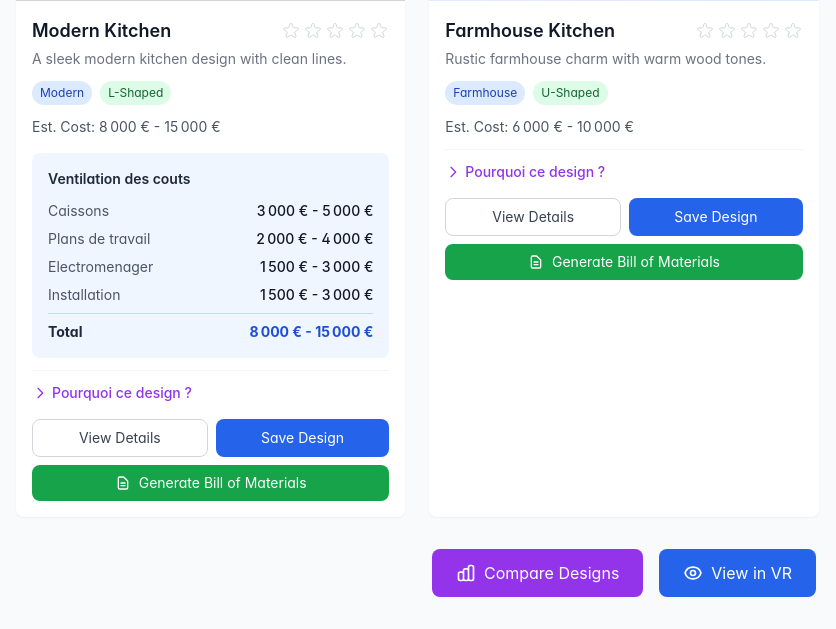
Test: GeneratedDesigns › Design Explanation › should expand explanation when button is clicked
(page scrolled)
What coordinates should you click on to do the following:
click the button "Pourquoi ce design ?" below "Total"
I would click on:
 (112, 393)
Its box is [32,383,192,403].
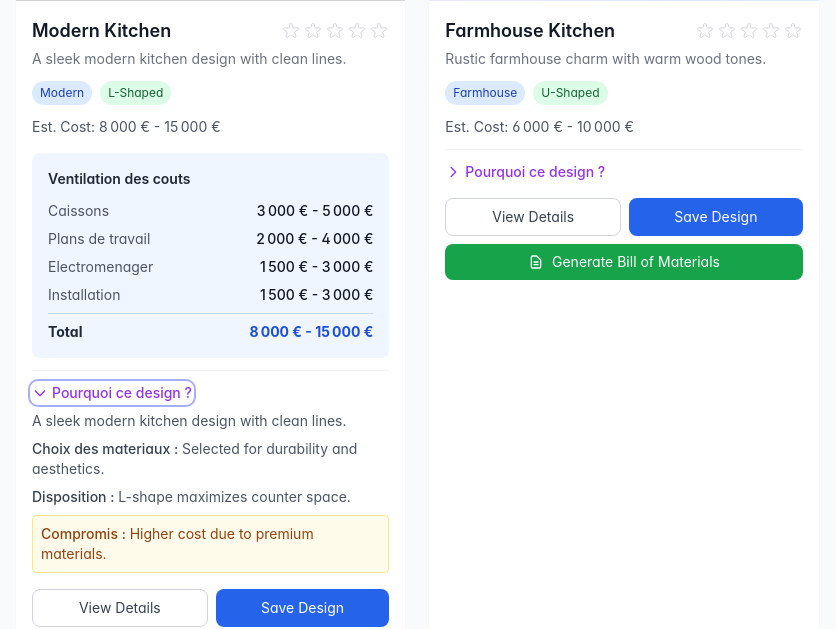
Expected: the text "Selected for durability and aesthetics" is shown, [32,440,357,477]
Expected: the text "Disposition : L-shape maximizes counter space." is shown, [32,487,389,507]
Expected: the text "Compromis : Higher cost due to premium materials." is shown, [32,515,389,573]
